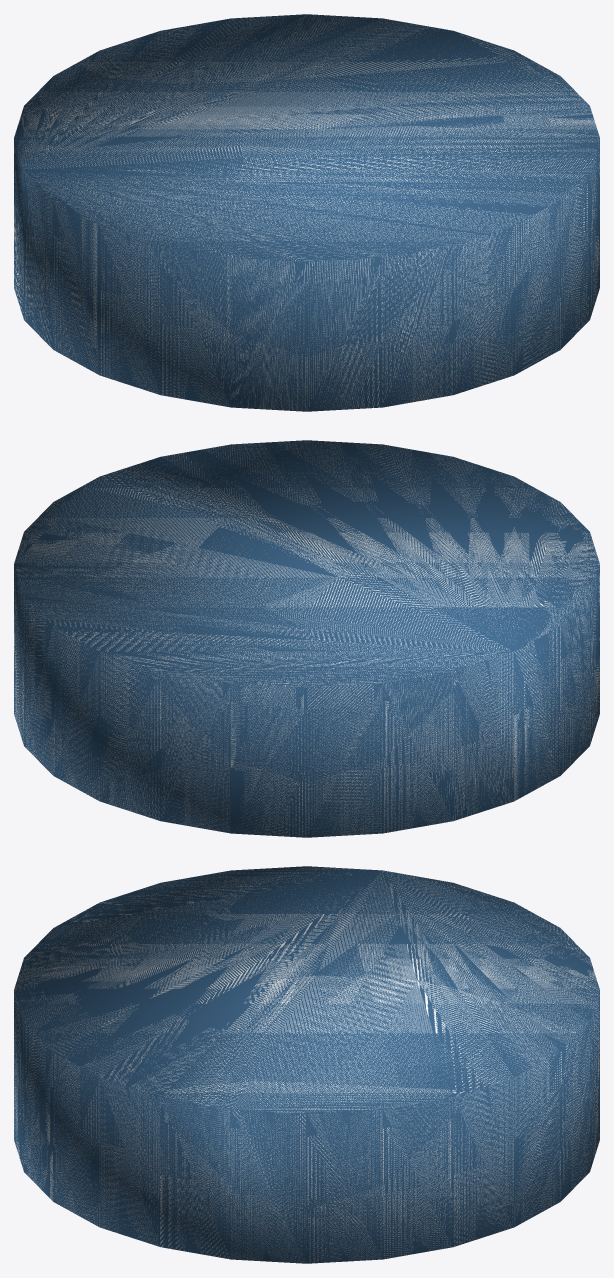
Rendered from original-2.obj.
The picture shows the model from 3 angles, top to bottom: view 1: azimuth 30°, elevation 25°; view 2: azimuth 150°, elevation 25°; view 3: azimuth 270°, elevation 25°; orthographic projection.
Parts seen in each view (by area): view 1: mesh2/mesh2-geometry#mesh2-geometry; view 2: mesh2/mesh2-geometry#mesh2-geometry; view 3: mesh2/mesh2-geometry#mesh2-geometry.
Boxes of the visible parts, bbox=[...] form: mesh2/mesh2-geometry#mesh2-geometry: bbox=[14, 14, 599, 411]; mesh2/mesh2-geometry#mesh2-geometry: bbox=[14, 440, 599, 837]; mesh2/mesh2-geometry#mesh2-geometry: bbox=[14, 866, 599, 1263].
Size of the model in its own units: 0.3091 by 0.0872 by 0.3091.
